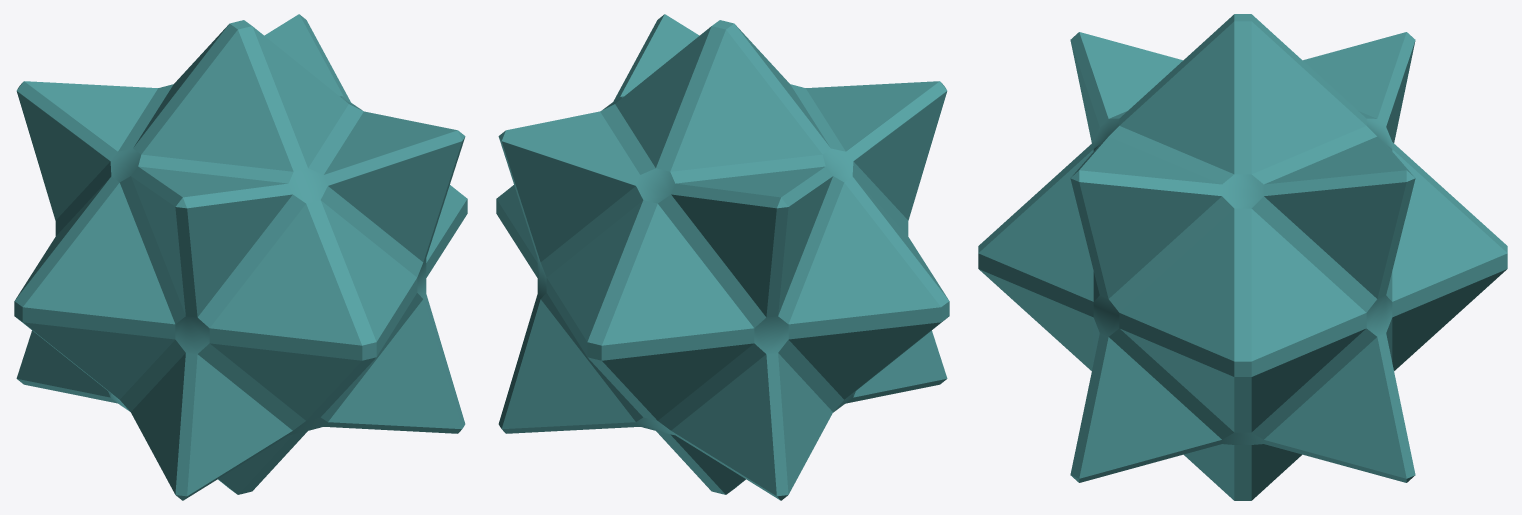
The model's file is st2_starobj4.fbx.
3 renders of one model, left to right at view 1: azimuth 30°, elevation 25°; view 2: azimuth 150°, elevation 25°; view 3: azimuth 270°, elevation 25°, orthographic. The views are drawn at different scales.
Visible parts, largest first — view 1: Cube_002; view 2: Cube_002; view 3: Cube_002.
Part boxes in pixels (<box>): Cube_002: <box>14,14,467,500</box>; Cube_002: <box>496,14,949,500</box>; Cube_002: <box>978,14,1507,500</box>.
Size of the model in its own units: 141 by 141 by 141.
